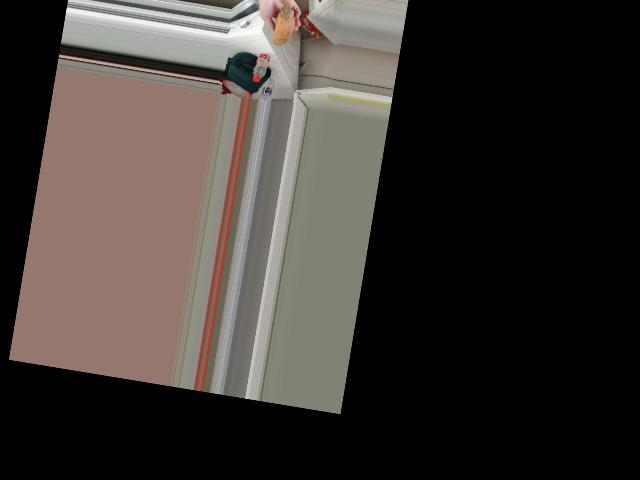sweet_potato: (270, 6, 295, 56)
